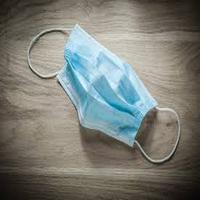flu mask: (56, 23, 157, 152)
